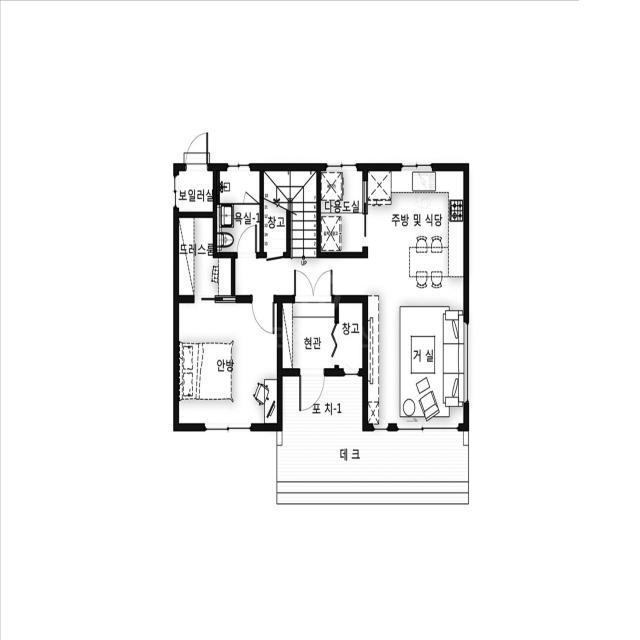space_bedroom: (179, 303, 277, 423)
space_dressroom: (179, 218, 231, 295)
space_front: (282, 303, 335, 369)
space_kitchen: (368, 171, 463, 259)
space_living_room: (235, 258, 463, 424)
space_multipurpose_space: (320, 171, 363, 252)
space_other: (338, 303, 363, 368), (179, 171, 213, 212), (264, 198, 286, 252)
space_staircase: (264, 171, 317, 258)
space_toilet: (217, 171, 260, 252)
